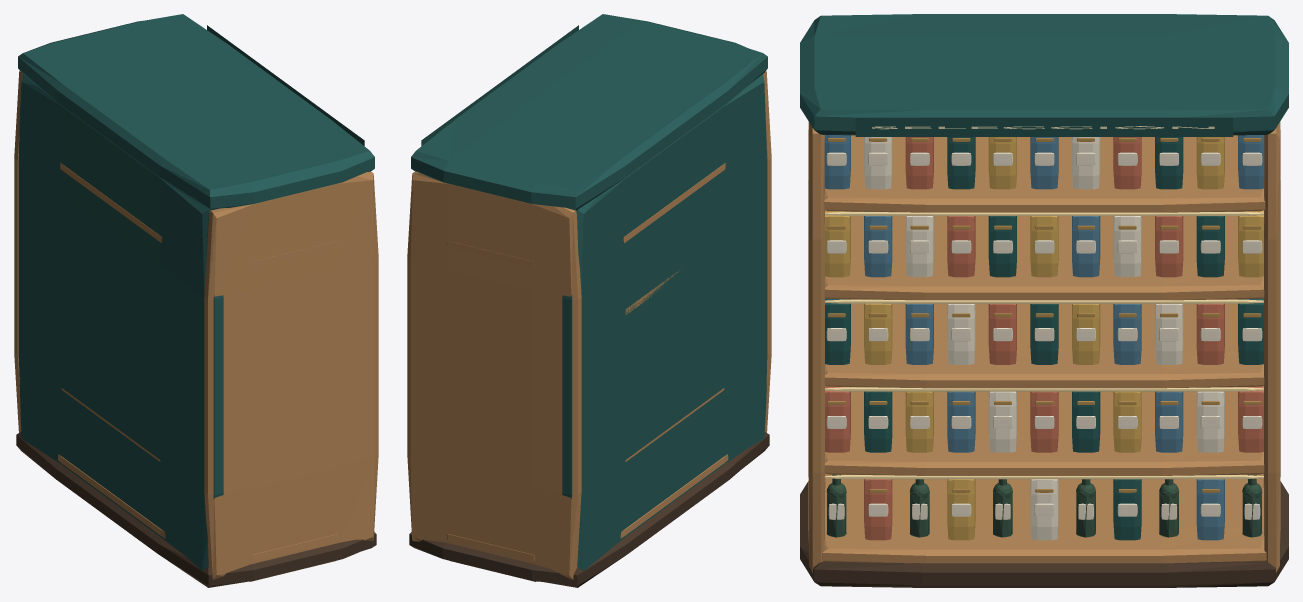
Rendered from better.glb.
3 views of the same model, side by side, from view 1: azimuth 30°, elevation 25°; view 2: azimuth 150°, elevation 25°; view 3: azimuth 270°, elevation 25° (orthographic). The views are drawn at different scales.
Parts seen in each view (by area): view 1: Native component 10, Native component 14, Native component 0, Native component 1; view 2: Native component 10, Native component 14, Native component 0, Native component 1; view 3: Native component 14, Native component 10, Native component 100, Native component 173, Native component 114, Native component 183, Native component 0, Native component 1, Native component 21, Native component 26, Native component 124, Sign SELECCIÓN.
Boxes of the visible parts, <box> form: Native component 10: <box>18,14,374,570</box>; Native component 14: <box>14,70,378,581</box>; Native component 0: <box>16,432,376,587</box>; Native component 1: <box>207,25,364,145</box>; Native component 10: <box>411,14,767,570</box>; Native component 14: <box>407,70,771,581</box>; Native component 0: <box>409,432,769,587</box>; Native component 1: <box>421,25,578,145</box>; Native component 14: <box>808,122,1280,572</box>; Native component 10: <box>800,14,1288,540</box>; Native component 100: <box>826,137,1262,540</box>; Native component 173: <box>825,137,1263,540</box>; Native component 114: <box>825,137,1263,540</box>; Native component 183: <box>824,135,1264,540</box>; Native component 0: <box>800,481,1288,587</box>; Native component 1: <box>855,117,1233,136</box>; Native component 21: <box>825,212,1263,479</box>; Native component 26: <box>826,474,1262,537</box>; Native component 124: <box>827,138,1261,492</box>; Sign SELECCIÓN: <box>872,126,1214,129</box>.
Size of the model in its own units: 1.05 by 2.24 by 2.07.
